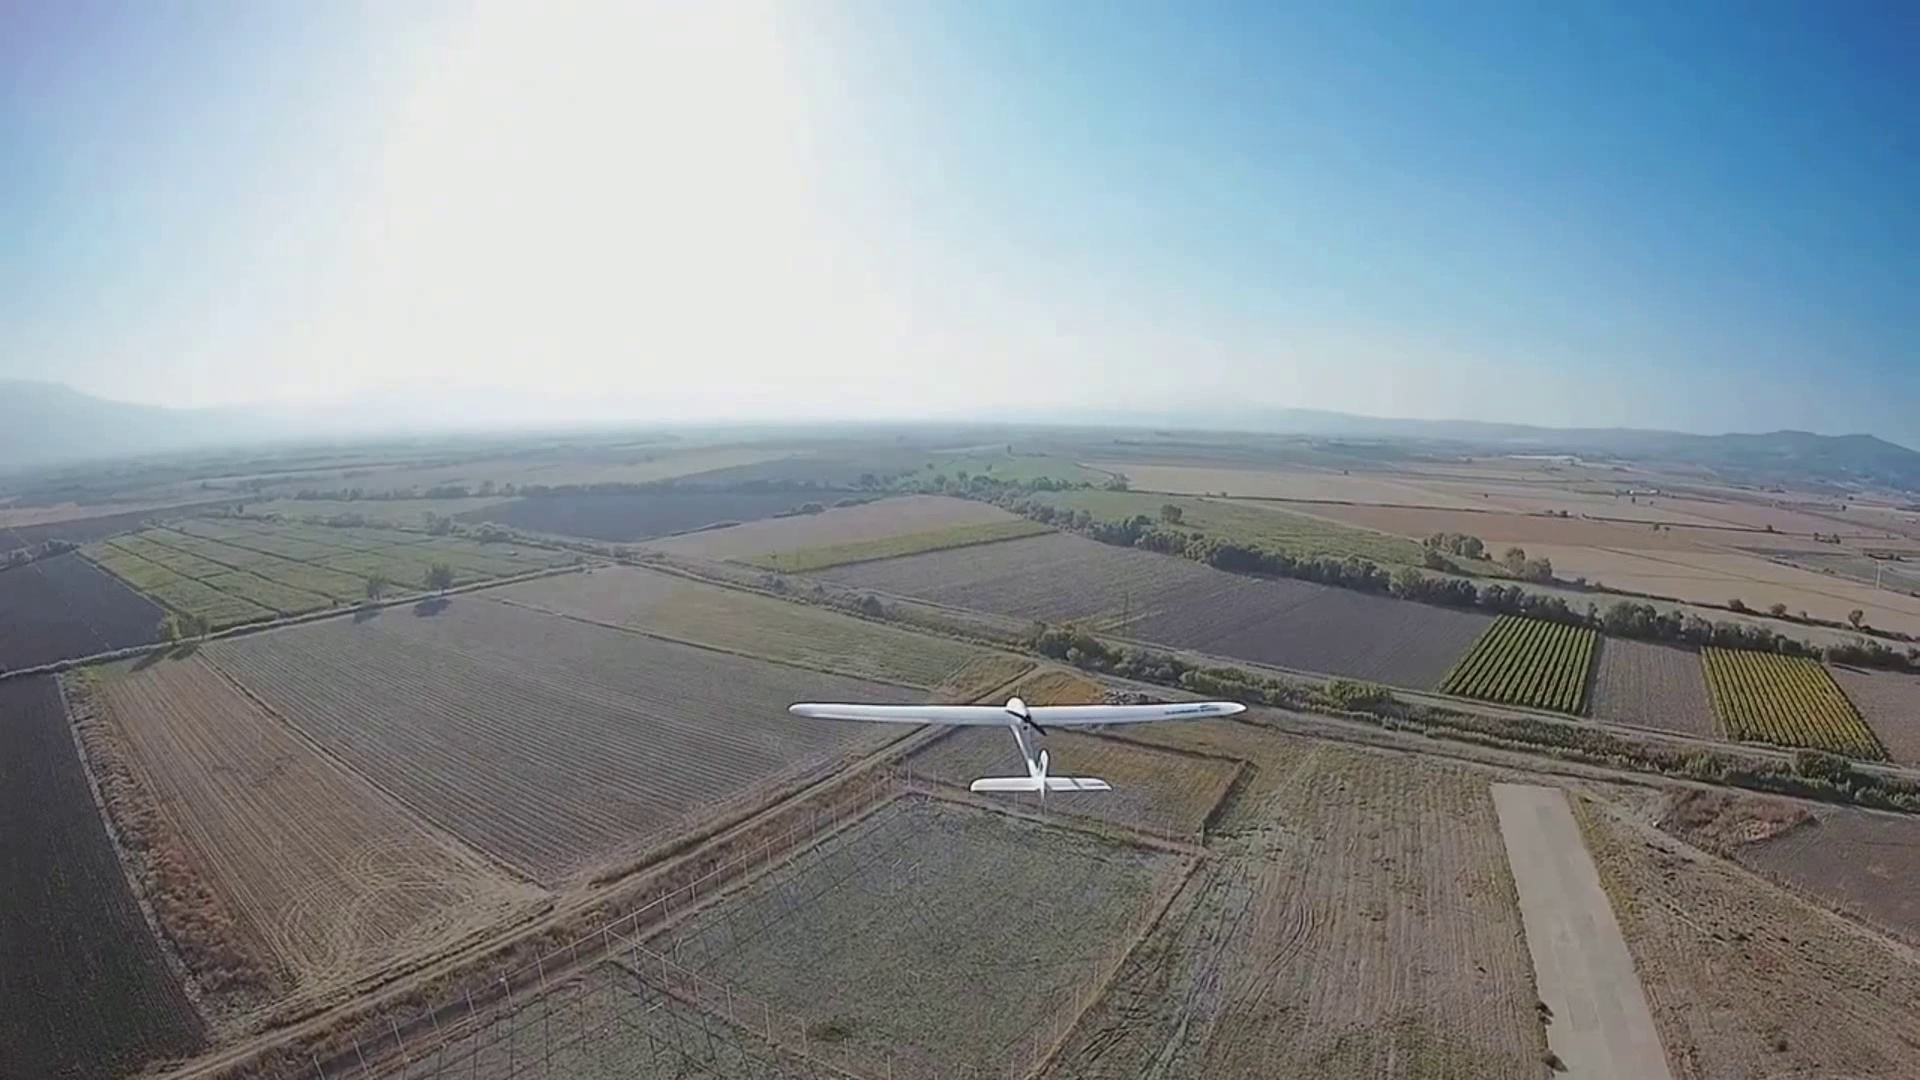airplane: (789, 683, 1251, 800)
